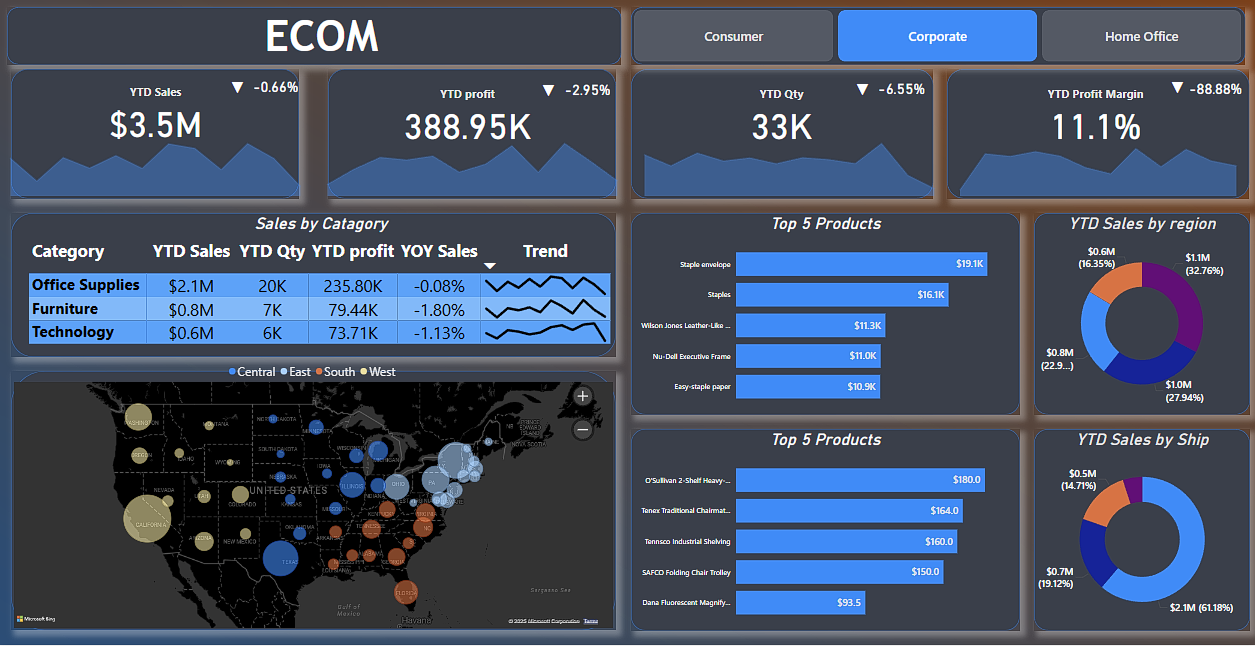

What the dashboard file says about the page in this screenshot:
{"tool":"powerbi","page":{"name":"Page 1","canvas":[2100,1080],"ordinal":0},"visuals":[{"type":"shape","box":[16,16,1024,96],"z":0},{"type":"textbox","box":[384,16,336,112],"z":1000},{"type":"shape","box":[24,120,480,216],"z":2000},{"type":"cardVisual","fields":{"Data":["_Measures.YTD Sales"]},"box":[128,128,272,128],"z":3000},{"type":"areaChart","fields":{"Category":["Calendar.Month"],"Y":["Sum(ecommerce_data.sales_per_order)"]},"box":[0,216,528,120],"z":4000},{"type":"cardVisual","fields":{"Data":["_Measures.YOY Sales"]},"box":[400,112,128,64],"z":5000},{"type":"cardVisual","fields":{"Data":["_Measures.Sales Icon"]},"box":[336,112,128,64],"z":6000},{"type":"shape","box":[552,120,480,216],"z":7000},{"type":"cardVisual","fields":{"Data":["_Measures.YTD profit"]},"box":[647.7,132.3,272,128],"z":8000},{"type":"areaChart","fields":{"Category":["Calendar.Month"],"Y":["Sum(ecommerce_data.profit_per_order)"]},"box":[528,216,528,120],"z":9000},{"type":"cardVisual","fields":{"Data":["_Measures.YOY Profit"]},"box":[919.7,116.3,128,64],"z":10000},{"type":"cardVisual","fields":{"Data":["_Measures.Profit Icon"]},"box":[855.7,116.3,128,64],"z":11000},{"type":"shape","box":[1056,120,504,216],"z":12000},{"type":"cardVisual","fields":{"Data":["_Measures.YTD Qty"]},"box":[1171,131.7,272,128],"z":13000},{"type":"areaChart","fields":{"Category":["Calendar.Month"],"Y":["Sum(ecommerce_data.order_quantity)"]},"box":[1056,216,528,120],"z":14000},{"type":"cardVisual","fields":{"Data":["_Measures.YOY Qty"]},"box":[1443,115.7,128,64],"z":15000},{"type":"cardVisual","fields":{"Data":["_Measures.Qty Icon"]},"box":[1379,115.7,128,64],"z":16000},{"type":"shape","box":[1584,120,504,216],"z":17000},{"type":"cardVisual","fields":{"Data":["_Measures.YTD Profit Margin"]},"box":[1694.3,131.7,272,128],"z":18000},{"type":"areaChart","fields":{"Category":["Calendar.Month"],"Y":["_Measures.Profit Margin"]},"box":[1584,216,504,120],"z":19000},{"type":"cardVisual","fields":{"Data":["_Measures.YoY Profit Margin"]},"box":[1966.3,115.7,128,64],"z":20000},{"type":"cardVisual","fields":{"Data":["_Measures.Profit Margin Icon"]},"box":[1904,112,128,64],"z":21000},{"type":"shape","box":[24,360,1008,240],"z":22000},{"type":"pivotTable","title":"Sales by Catagory","fields":{"Rows":["ecommerce_data.category_name"],"Values":["_Measures.YTD Sales","_Measures.YTD Qty","_Measures.YTD profit","_Measures.YOY Sales","SparklineData(Sum(ecommerce_data.sales_per_order)_[Calendar.Month])"]},"box":[48,360,984,240],"z":23000},{"type":"shape","box":[24,624,1008,432],"z":24000},{"type":"map","fields":{"X":["us_state_long_lat_codes.longitude"],"Y":["us_state_long_lat_codes.latitude"],"Series":["ecommerce_data.customer_region"],"Size":["_Measures.YTD Sales"]},"box":[24,600,1008,456],"z":25000},{"type":"shape","box":[1056,360,648,336],"z":25001},{"type":"shape","box":[1056,720,648,336],"z":25002},{"type":"barChart","title":"Top 5 Products","fields":{"Y":["_Measures.YTD Sales"],"Category":["ecommerce_data.product_name"]},"box":[1056,360,648,336],"z":25003},{"type":"barChart","title":"Top 5 Products","fields":{"Y":["_Measures.YTD Sales"],"Category":["ecommerce_data.product_name"]},"box":[1056,720,648,336],"z":25004},{"type":"shape","box":[1728,360,360,336],"z":25006},{"type":"shape","box":[1728,720,360,336],"z":25007},{"type":"donutChart","title":"YTD Sales by region","fields":{"Category":["ecommerce_data.customer_region"],"Y":["_Measures.YTD Sales"]},"box":[1728,360,360,336],"z":25008},{"type":"donutChart","title":"YTD Sales by Ship","fields":{"Y":["_Measures.YTD Sales"],"Category":["ecommerce_data.shipping_type"]},"box":[1716,720,384,336],"z":25009},{"type":"shape","box":[1056,16,1024,96],"z":25010},{"type":"advancedSlicerVisual","fields":{"Values":["ecommerce_data.customer_segment"]},"box":[1056,16,1024,96],"z":25011}]}

Visuals, with their boxes in screenshot pixels (x1, y1, x2, y2), scaled from the page's 2100x1080 canvas onto the 1255x646 screenshot:
shape: 10 10 622 67
textbox: 229 10 430 77
shape: 14 72 301 201
cardVisual - _Measures.YTD Sales: 76 77 239 153
areaChart - Calendar.Month x Sum(ecommerce_data.sales_per_order): 0 129 316 201
cardVisual - _Measures.YOY Sales: 239 67 316 105
cardVisual - _Measures.Sales Icon: 201 67 277 105
shape: 330 72 617 201
cardVisual - _Measures.YTD profit: 387 79 550 156
areaChart - Calendar.Month x Sum(ecommerce_data.profit_per_order): 316 129 631 201
cardVisual - _Measures.YOY Profit: 550 70 626 108
cardVisual - _Measures.Profit Icon: 511 70 588 108
shape: 631 72 932 201
cardVisual - _Measures.YTD Qty: 700 79 862 155
areaChart - Calendar.Month x Sum(ecommerce_data.order_quantity): 631 129 947 201
cardVisual - _Measures.YOY Qty: 862 69 939 107
cardVisual - _Measures.Qty Icon: 824 69 901 107
shape: 947 72 1248 201
cardVisual - _Measures.YTD Profit Margin: 1013 79 1175 155
areaChart - Calendar.Month x _Measures.Profit Margin: 947 129 1248 201
cardVisual - _Measures.YoY Profit Margin: 1175 69 1252 107
cardVisual - _Measures.Profit Margin Icon: 1138 67 1214 105
shape: 14 215 617 359
"Sales by Catagory" pivotTable: 29 215 617 359
shape: 14 373 617 632
map - us_state_long_lat_codes.longitude x us_state_long_lat_codes.latitude: 14 359 617 632
shape: 631 215 1018 416
shape: 631 431 1018 632
"Top 5 Products" barChart: 631 215 1018 416
"Top 5 Products" barChart: 631 431 1018 632
shape: 1033 215 1248 416
shape: 1033 431 1248 632
"YTD Sales by region" donutChart: 1033 215 1248 416
"YTD Sales by Ship" donutChart: 1026 431 1254 632
shape: 631 10 1243 67
advancedSlicerVisual - ecommerce_data.customer_segment: 631 10 1243 67
